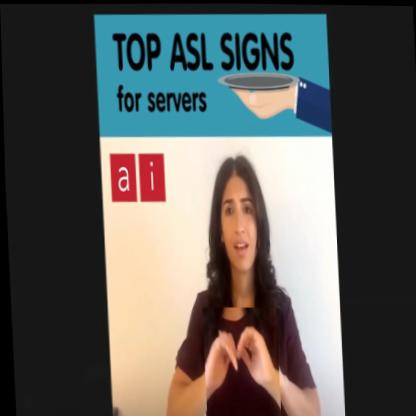HowAreYou: (200, 305, 278, 416)
